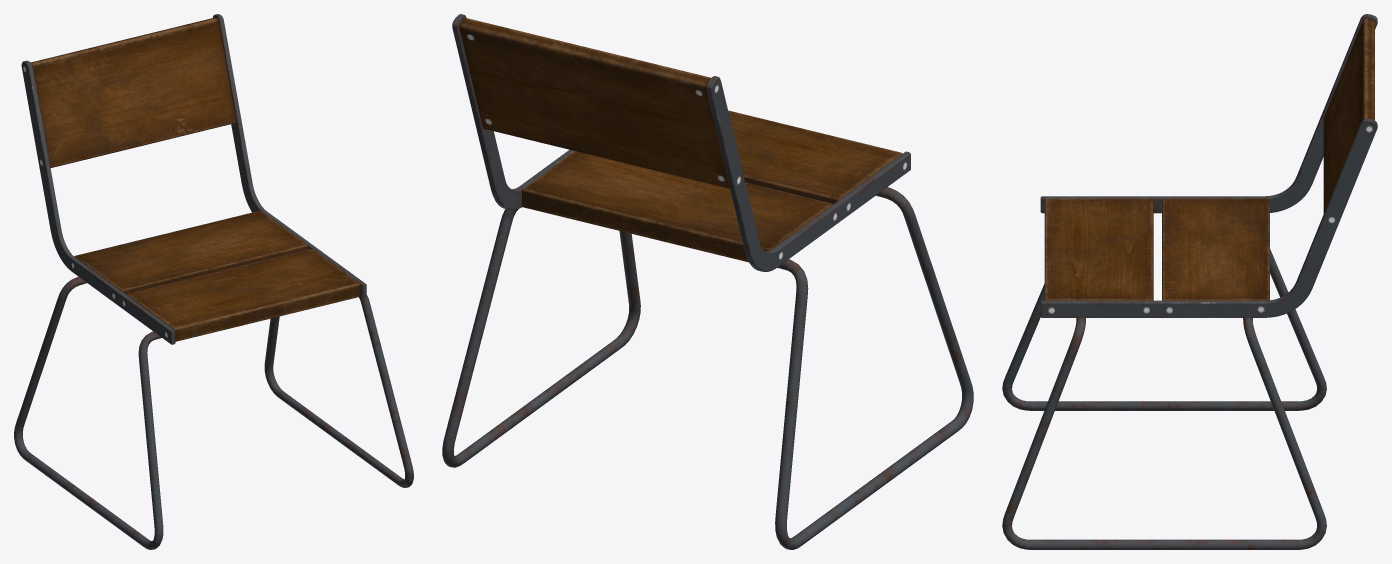
The model's file is chair_1.gltf.
3 renders of one model, left to right at view 1: azimuth 30°, elevation 25°; view 2: azimuth 150°, elevation 25°; view 3: azimuth 270°, elevation 25°, orthographic. The views are drawn at different scales.
Visible parts, largest first — view 1: chair; view 2: chair; view 3: chair.
Part boxes in pixels (<box>): chair: <box>14,14,413,549</box>; chair: <box>442,14,973,549</box>; chair: <box>1002,14,1377,549</box>.
Bounding box in the file's own units: 40.26 × 54.28 × 44.73.
1 material, 1 textured.
